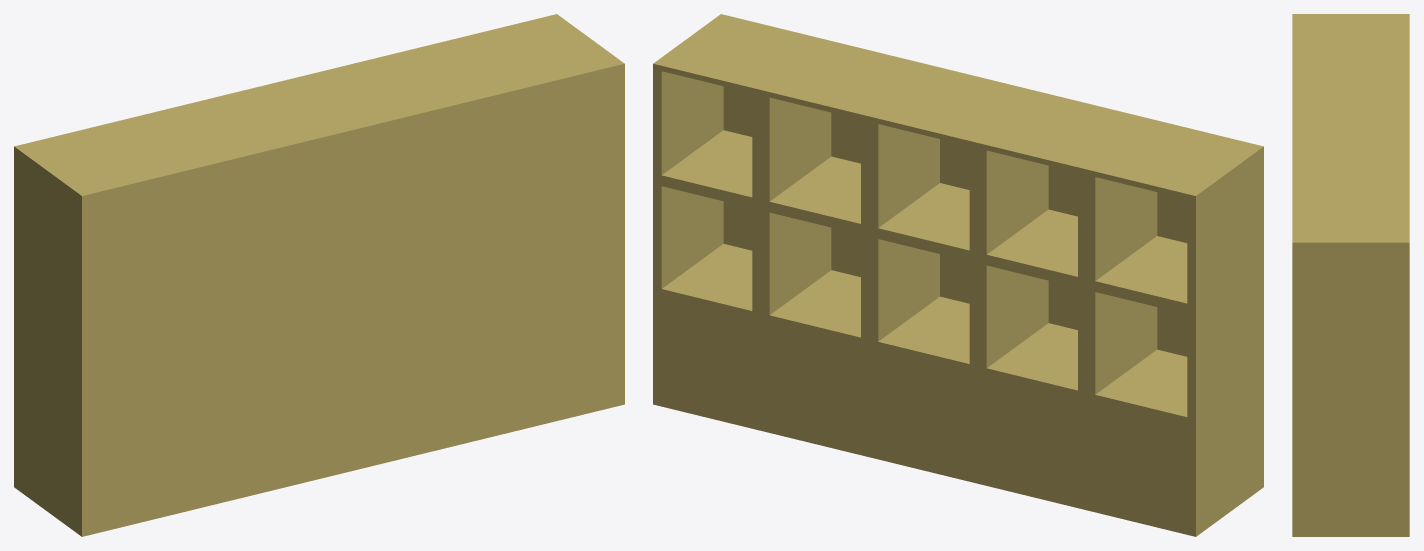
Rendered from expositor_varios.fbx.
The picture shows the model from 3 angles, left to right: view 1: azimuth 30°, elevation 25°; view 2: azimuth 150°, elevation 25°; view 3: azimuth 270°, elevation 25°; orthographic projection. The views are drawn at different scales.
Parts seen in each view (by area): view 1: Expositor; view 2: Expositor; view 3: Expositor.
Boxes of the visible parts, x1,y1,x2,y2 form: Expositor: [14, 14, 624, 536]; Expositor: [653, 14, 1263, 536]; Expositor: [1292, 14, 1409, 536].
Bounding box in the file's own units: 1000 × 600 × 217.
